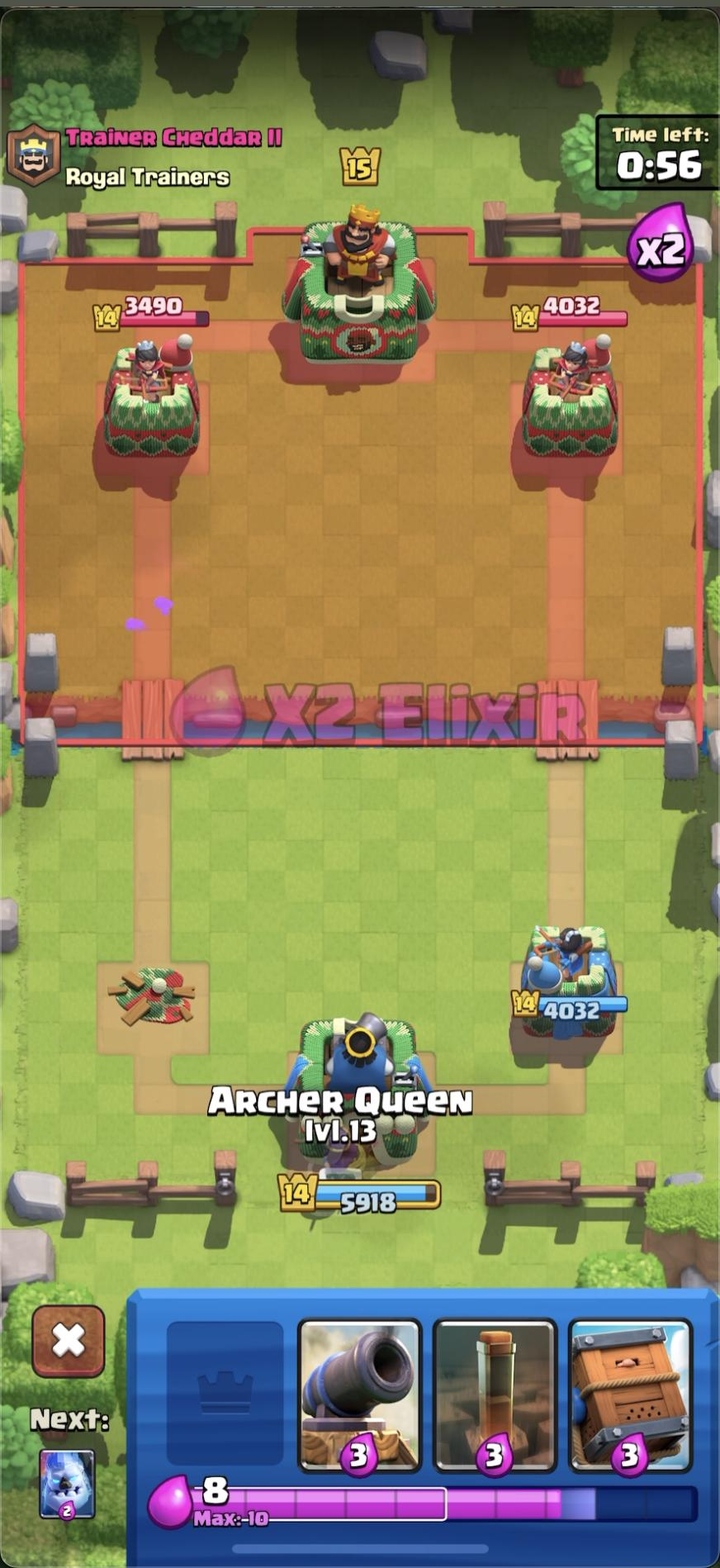card_cannon: (294, 1312, 425, 1478)
card_earthquake: (431, 1311, 561, 1478)
card_icegolem: (36, 1447, 106, 1524)
card_royaldelivery: (566, 1314, 692, 1479)
